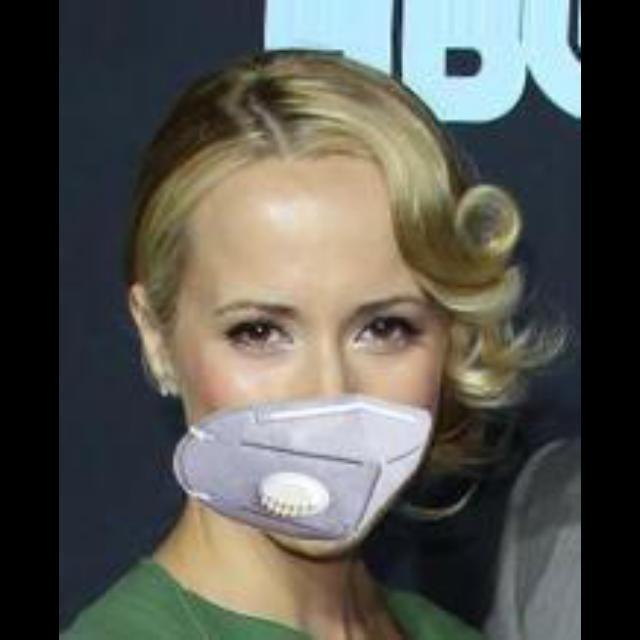suspicion: (131, 72, 483, 522)
